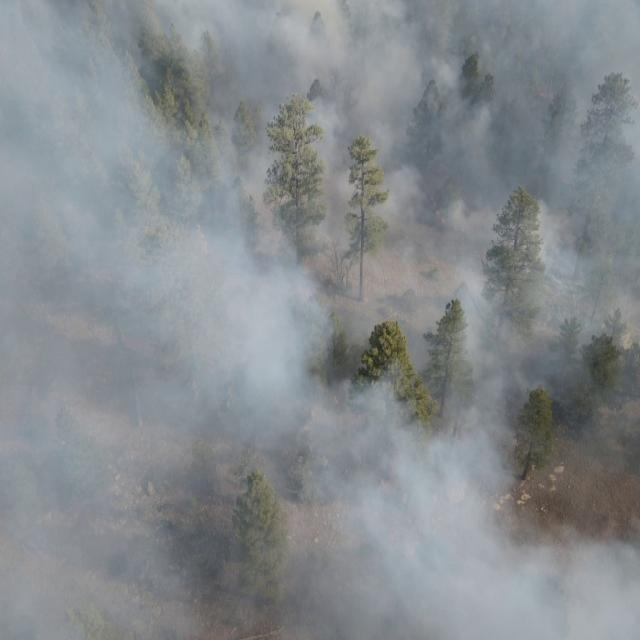fire: (423, 188, 448, 228), (528, 80, 553, 101), (560, 171, 574, 188)
smoke: (0, 0, 640, 640)
